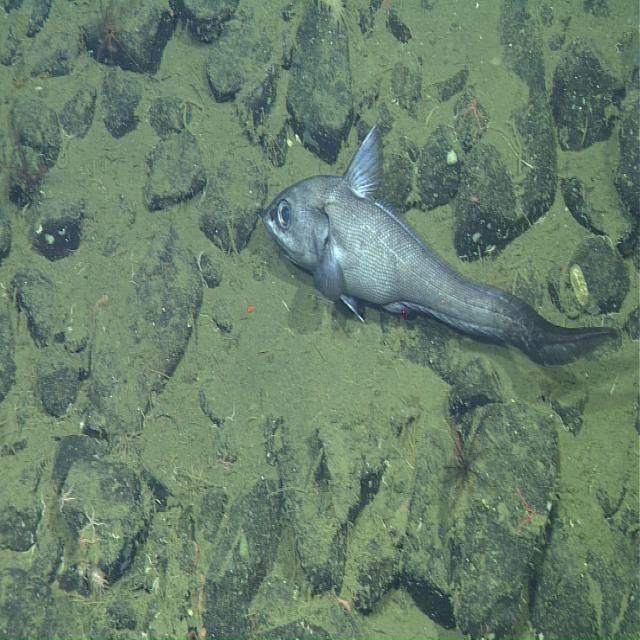Brittle Star: (507, 473, 543, 539), (460, 89, 490, 136)
